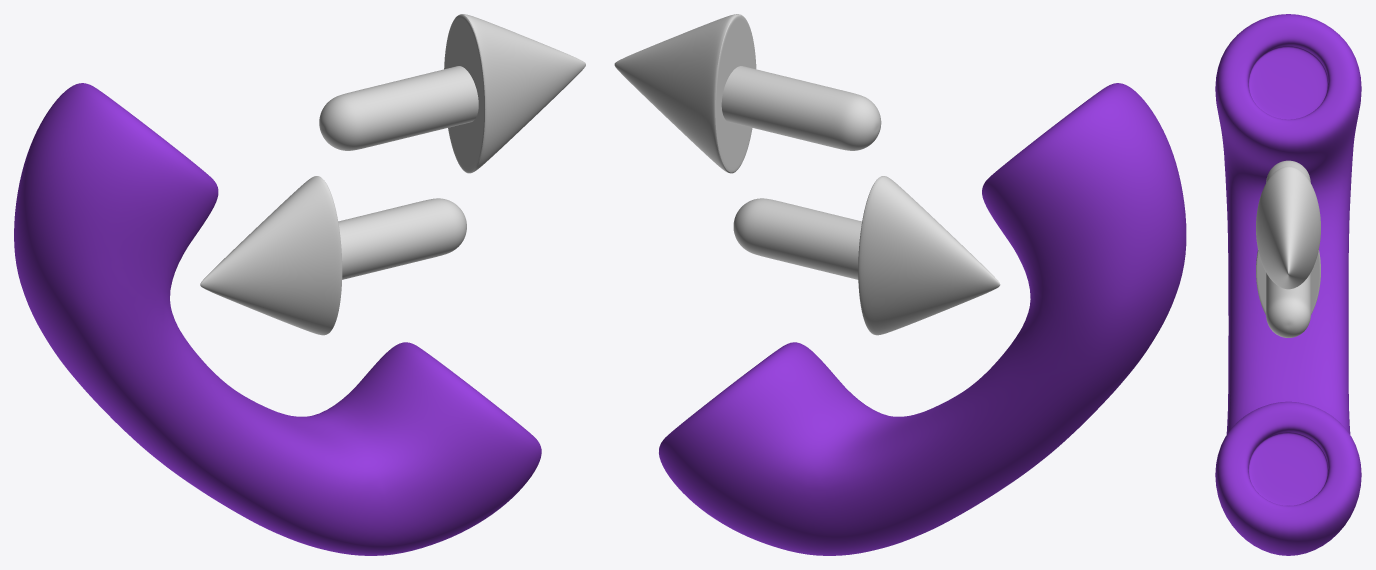
The model's file is call-missed.glb.
3 views of the same model, side by side, from view 1: azimuth 30°, elevation 25°; view 2: azimuth 150°, elevation 25°; view 3: azimuth 270°, elevation 25° (orthographic). The views are drawn at different scales.
Visible parts, largest first — view 1: Phone Miss; view 2: Phone Miss; view 3: Phone Miss.
Boxes of the visible parts, bbox=[...] form: Phone Miss: bbox=[14, 14, 585, 555]; Phone Miss: bbox=[614, 14, 1186, 555]; Phone Miss: bbox=[1215, 14, 1361, 555].
Bounding box in the file's own units: 1.98 × 1.77 × 0.5744.
